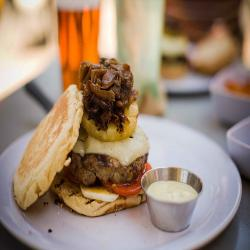burger: (7, 56, 155, 217)
